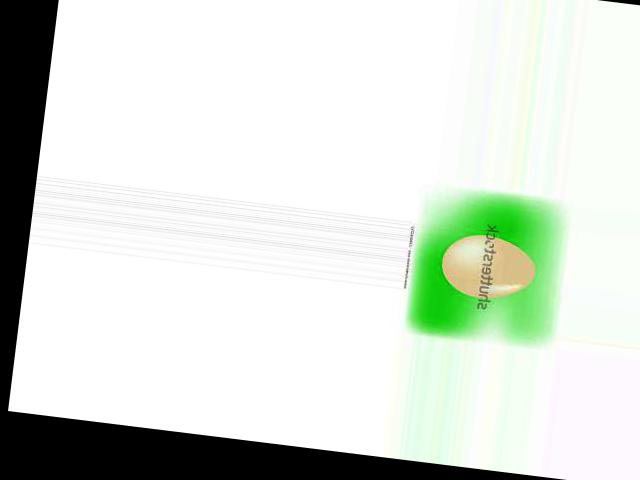egg: (438, 229, 539, 303)
